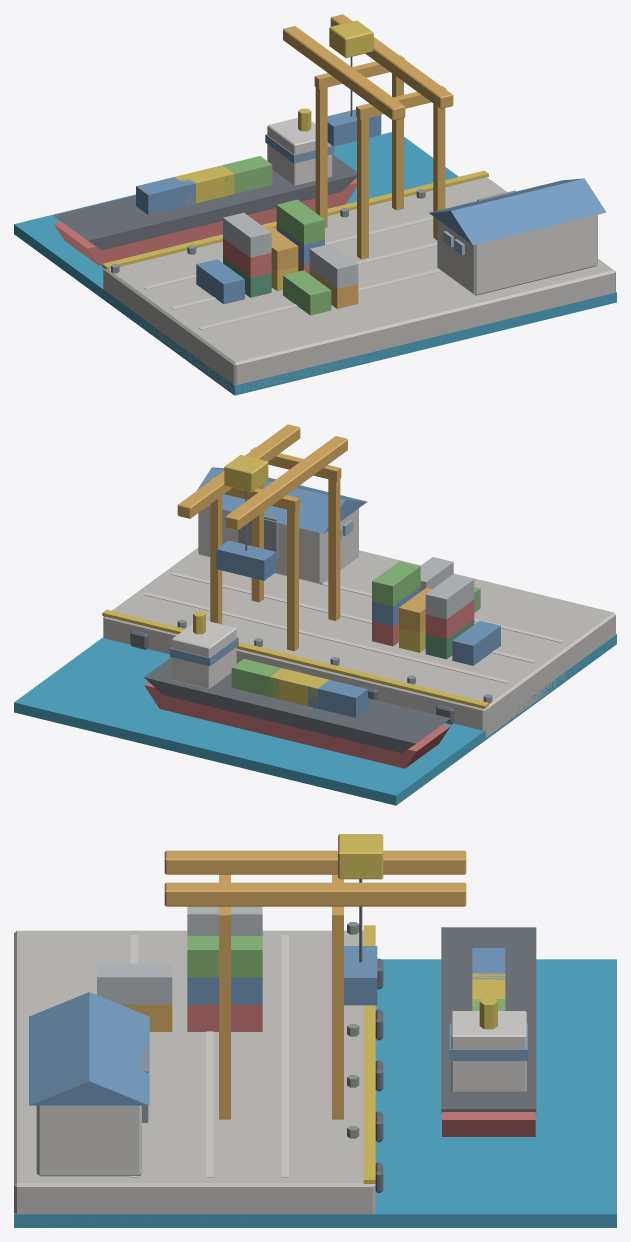
File: industrial__porto.glb
3 renders of one model, top to bottom at view 1: azimuth 30°, elevation 25°; view 2: azimuth 150°, elevation 25°; view 3: azimuth 270°, elevation 25°, orthographic. The views are drawn at different scales.
Parts seen in each view (by area): view 1: industrial__porto; view 2: industrial__porto; view 3: industrial__porto.
Boxes of the visible parts, x1,y1,x2,y2 form: industrial__porto: (14, 14, 616, 395); industrial__porto: (14, 424, 616, 805); industrial__porto: (14, 834, 616, 1227).
Bounding box in the file's own units: 4 × 2.14 × 4.
